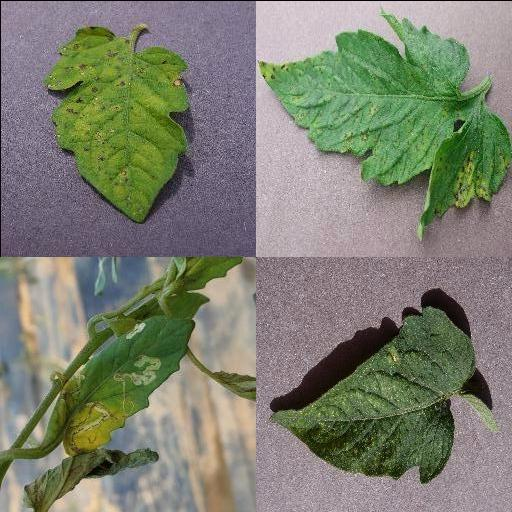Leaf Miner: (42, 313, 196, 455)
Septoria: (256, 4, 512, 242), (46, 27, 188, 223)
Spider Mites: (268, 305, 478, 481)
